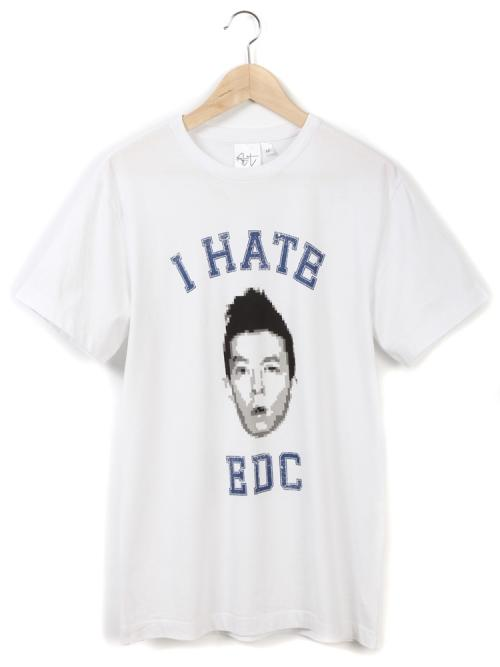flexible: (38, 107, 493, 658)
